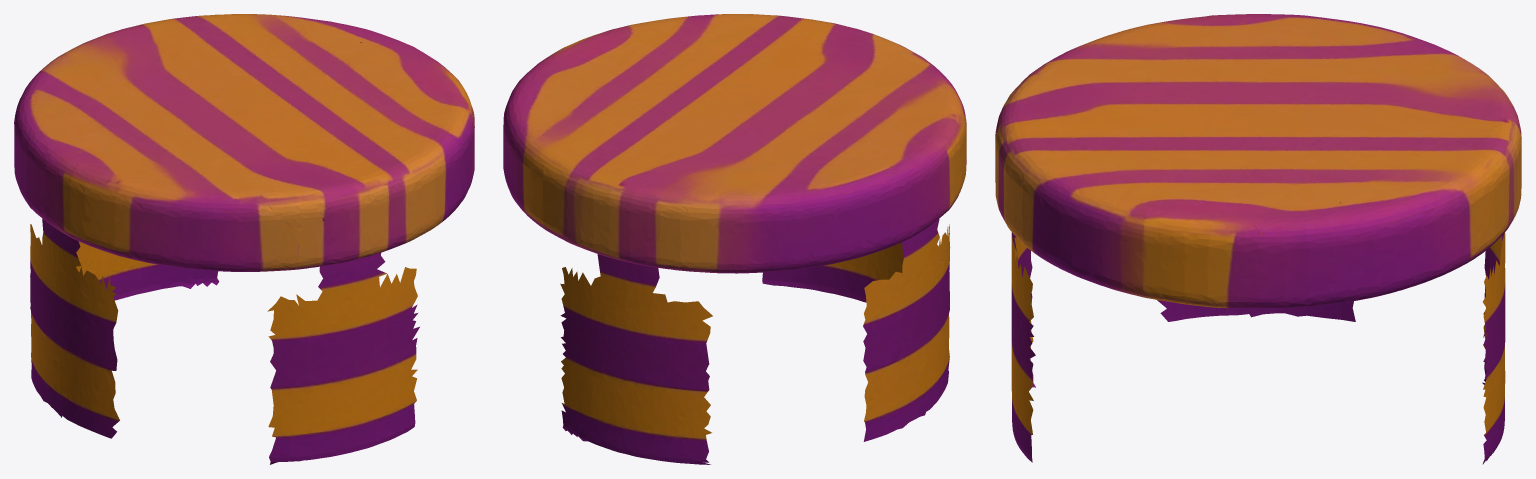
Rendered from lid.glb.
3 renders of one model, left to right at view 1: azimuth 30°, elevation 25°; view 2: azimuth 150°, elevation 25°; view 3: azimuth 270°, elevation 25°, orthographic. The views are drawn at different scales.
Visible parts, largest first — view 1: source_surface_0; view 2: source_surface_0; view 3: source_surface_0.
Boxes of the visible parts, left/top/right/bottom form: source_surface_0: left=14, top=14, right=474, bottom=464; source_surface_0: left=503, top=14, right=966, bottom=464; source_surface_0: left=995, top=14, right=1521, bottom=464.
Bounding box in the file's own units: 0.6 × 0.3906 × 0.6.
1 material, 1 textured.
